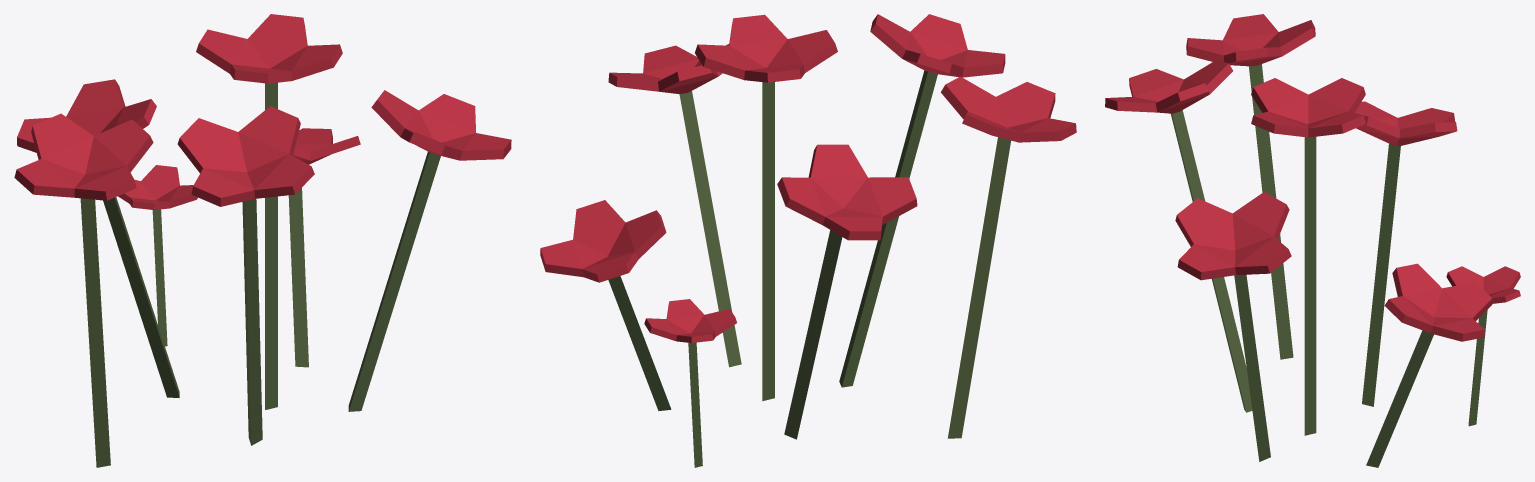
The model's file is SM_Envr_Nature_Plant_Flower_Group_03.fbx.
The picture shows the model from 3 angles, left to right: view 1: azimuth 30°, elevation 25°; view 2: azimuth 150°, elevation 25°; view 3: azimuth 270°, elevation 25°; orthographic projection. The views are drawn at different scales.
Parts seen in each view (by area): view 1: SM_Envr_Nature_Plant_Flower_Group_03; view 2: SM_Envr_Nature_Plant_Flower_Group_03; view 3: SM_Envr_Nature_Plant_Flower_Group_03.
Boxes of the visible parts, x1,y1,x2,y2 form: SM_Envr_Nature_Plant_Flower_Group_03: [14, 14, 511, 467]; SM_Envr_Nature_Plant_Flower_Group_03: [540, 14, 1076, 467]; SM_Envr_Nature_Plant_Flower_Group_03: [1105, 14, 1520, 467].
Bounding box in the file's own units: 87.54 × 66.77 × 74.73.
